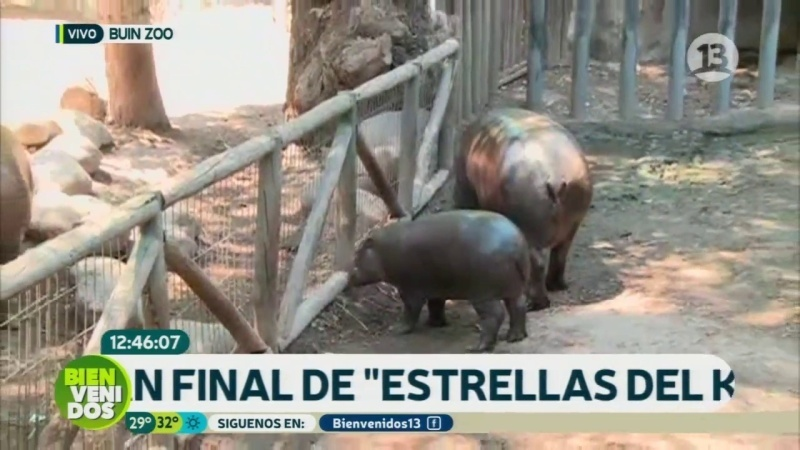hipopotamo: (340, 206, 545, 353), (450, 106, 589, 301)
